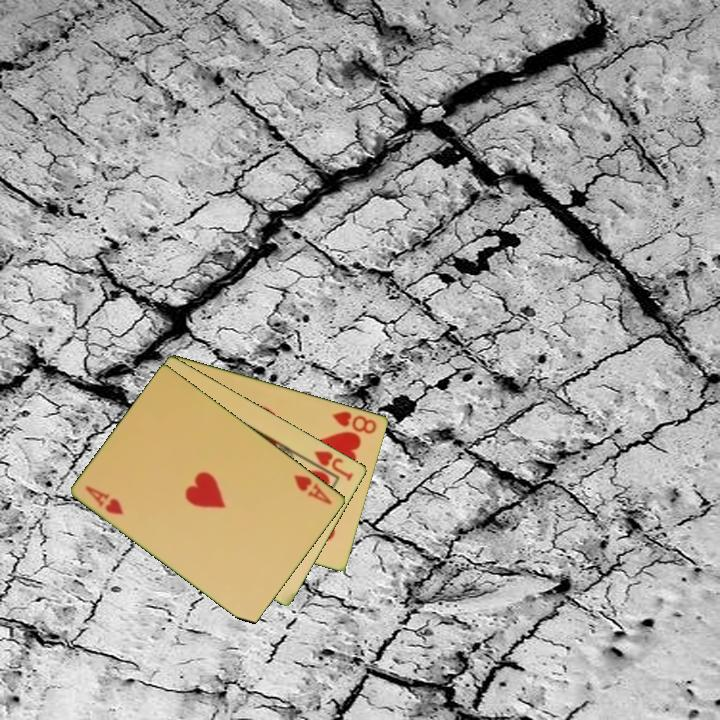8h: (329, 407, 380, 437)
Ah: (82, 482, 127, 518), (291, 471, 335, 507)
Jh: (302, 447, 356, 484)
